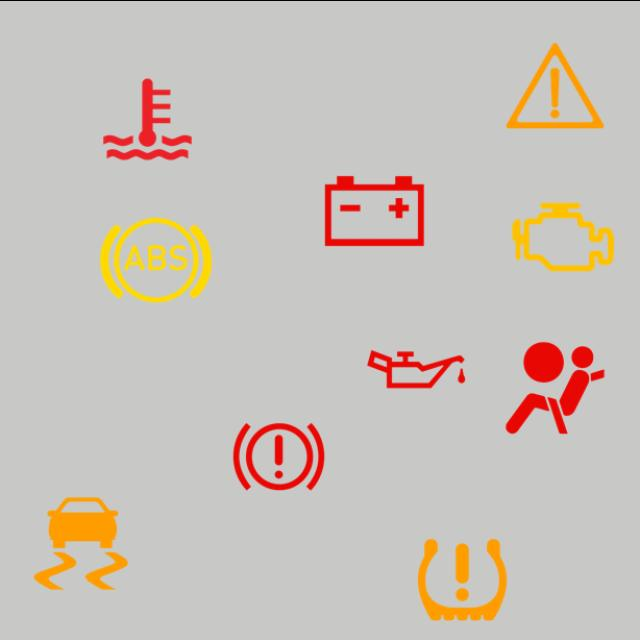Anti Lock Braking System: (95, 198, 217, 320)
Braking System Issue: (218, 395, 340, 517)
Charging System Issue: (314, 149, 436, 271)
Check Engine: (502, 175, 624, 297)
Electronic Stability Problem -ESP-: (20, 482, 142, 604)
Engine Overheating Warning Light: (86, 58, 208, 180)
Low Engine Oil Warning Light: (356, 308, 478, 430)
Low Tire Pressure Warning Light: (402, 518, 524, 640)
Master warning light: (494, 24, 616, 146)
SRS-Airbag: (494, 326, 616, 448)
